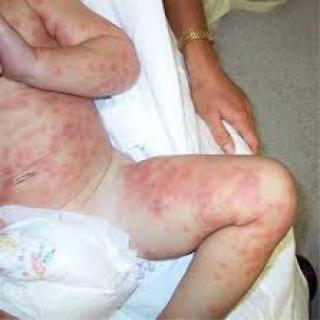urticaria: (9, 109, 83, 185), (120, 175, 233, 215), (220, 243, 254, 275), (249, 180, 271, 219)
